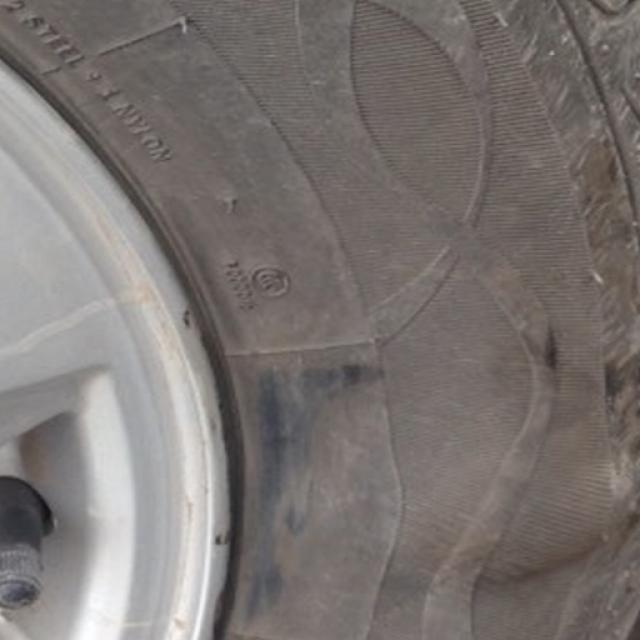Bulge: (383, 444, 636, 590)
